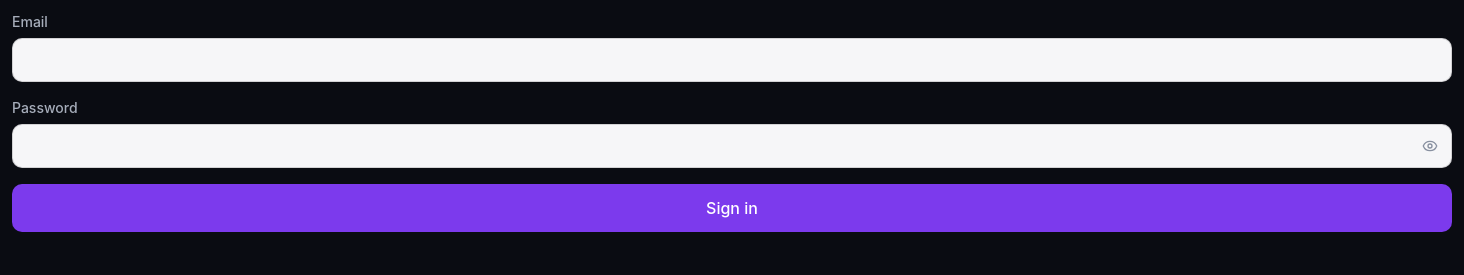
SignInForm › shows a validation error instead of submitting when the email is missing
Step 1. Type "secret123" into the password field labelled "Password" → point(732, 146), box [12,124,1452,168]
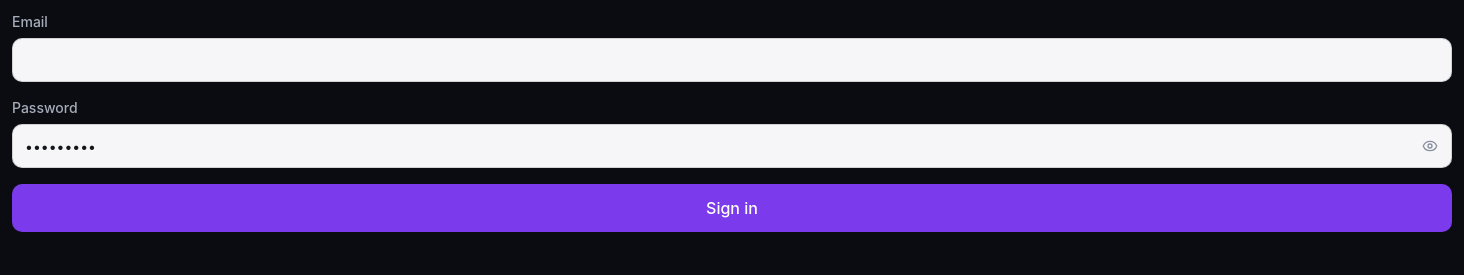
Step 2. Click the button "Sign in" → point(732, 208), box [12,184,1452,232]
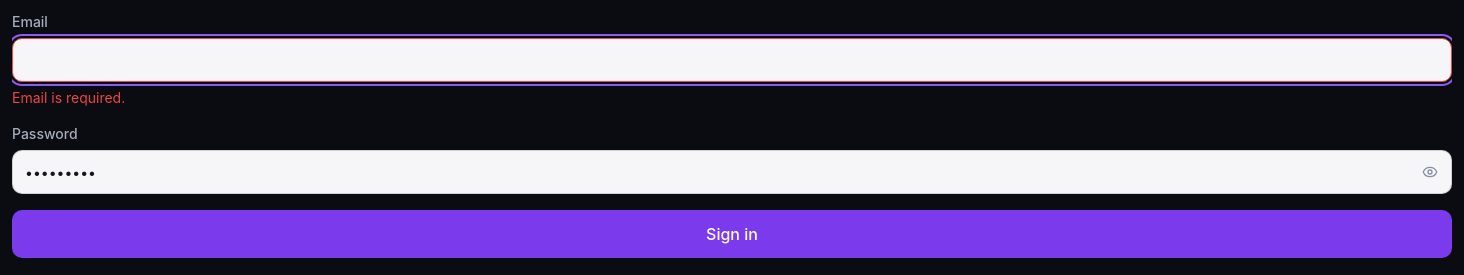
Result: the text "Email is required." is shown at [12,89,125,106]
